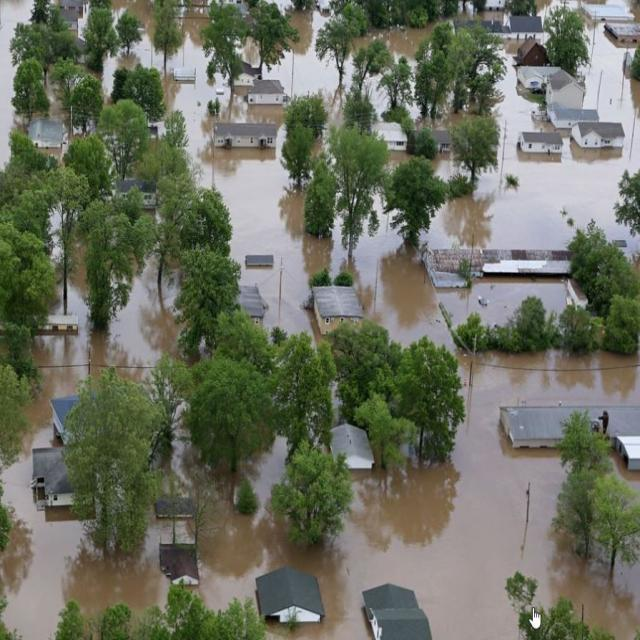flood: (196, 351, 640, 640), (429, 29, 640, 252), (174, 81, 346, 332), (354, 198, 570, 350), (0, 452, 173, 640), (27, 260, 177, 448), (535, 534, 640, 640), (265, 11, 337, 97), (0, 0, 32, 166), (112, 0, 162, 70), (168, 8, 209, 86), (163, 430, 197, 496), (371, 24, 434, 58), (228, 95, 284, 126), (433, 140, 470, 180), (612, 450, 640, 484), (421, 112, 469, 130), (389, 151, 413, 168)
house: (500, 402, 640, 446), (255, 561, 328, 629), (362, 577, 434, 638), (31, 443, 82, 512), (310, 285, 368, 335), (325, 422, 376, 470), (211, 120, 281, 154), (423, 246, 468, 290), (544, 68, 588, 112), (517, 124, 567, 162), (574, 121, 626, 153), (26, 117, 70, 151), (616, 429, 640, 482), (245, 78, 284, 108), (551, 106, 603, 128), (116, 178, 156, 206), (244, 284, 268, 328), (513, 38, 547, 69), (508, 16, 546, 38), (386, 121, 408, 152), (516, 64, 544, 88), (605, 23, 640, 42), (244, 253, 275, 268)
